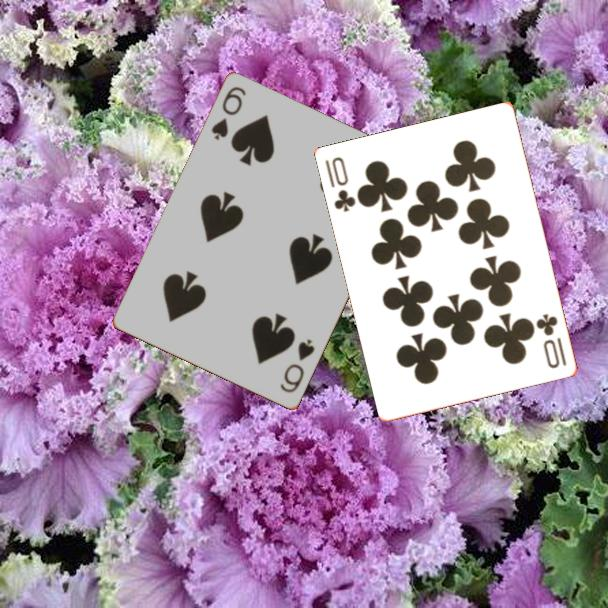c10: (533, 310, 570, 372), (322, 154, 359, 215)
s06: (208, 83, 249, 144), (277, 336, 318, 396)
